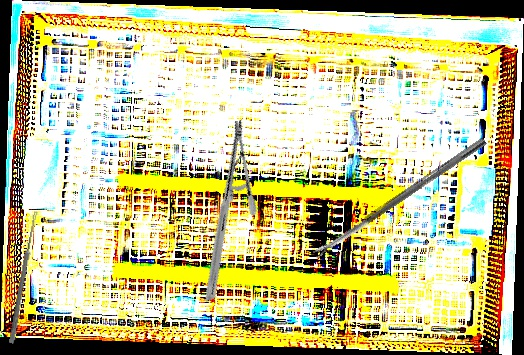Needle Holder: (151, 118, 298, 302)
Surgical Spoon: (312, 136, 487, 259), (8, 210, 39, 344)
